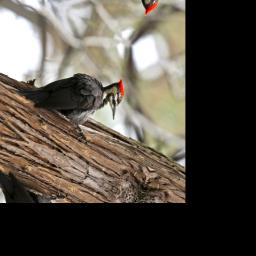Woodpecker: (5, 29, 129, 154)
